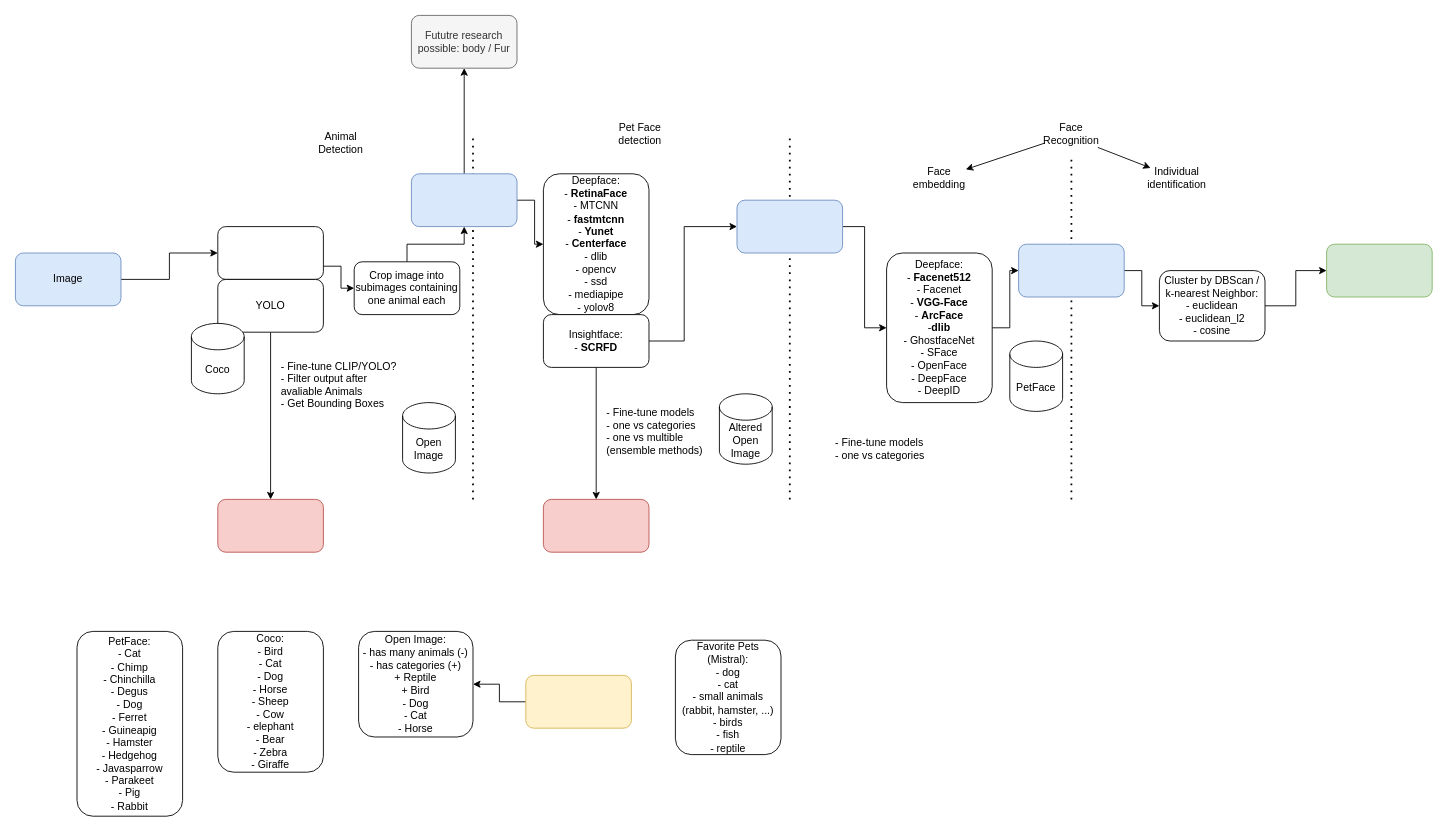
Some shapes in this 1448 by 832 pixel diagram are drawn without their labels. Each missing label, with the centre of its shape:
CLIP: the point at 270,252
Face embeeding vector: the point at 1071,270
Face position: the point at 789,226
Image only containing one animal; Animal type: the point at 464,200
Individual: the point at 1379,270
Needs rework and better categorization: the point at 578,701
No animal: the point at 270,525
No face: the point at 596,525
